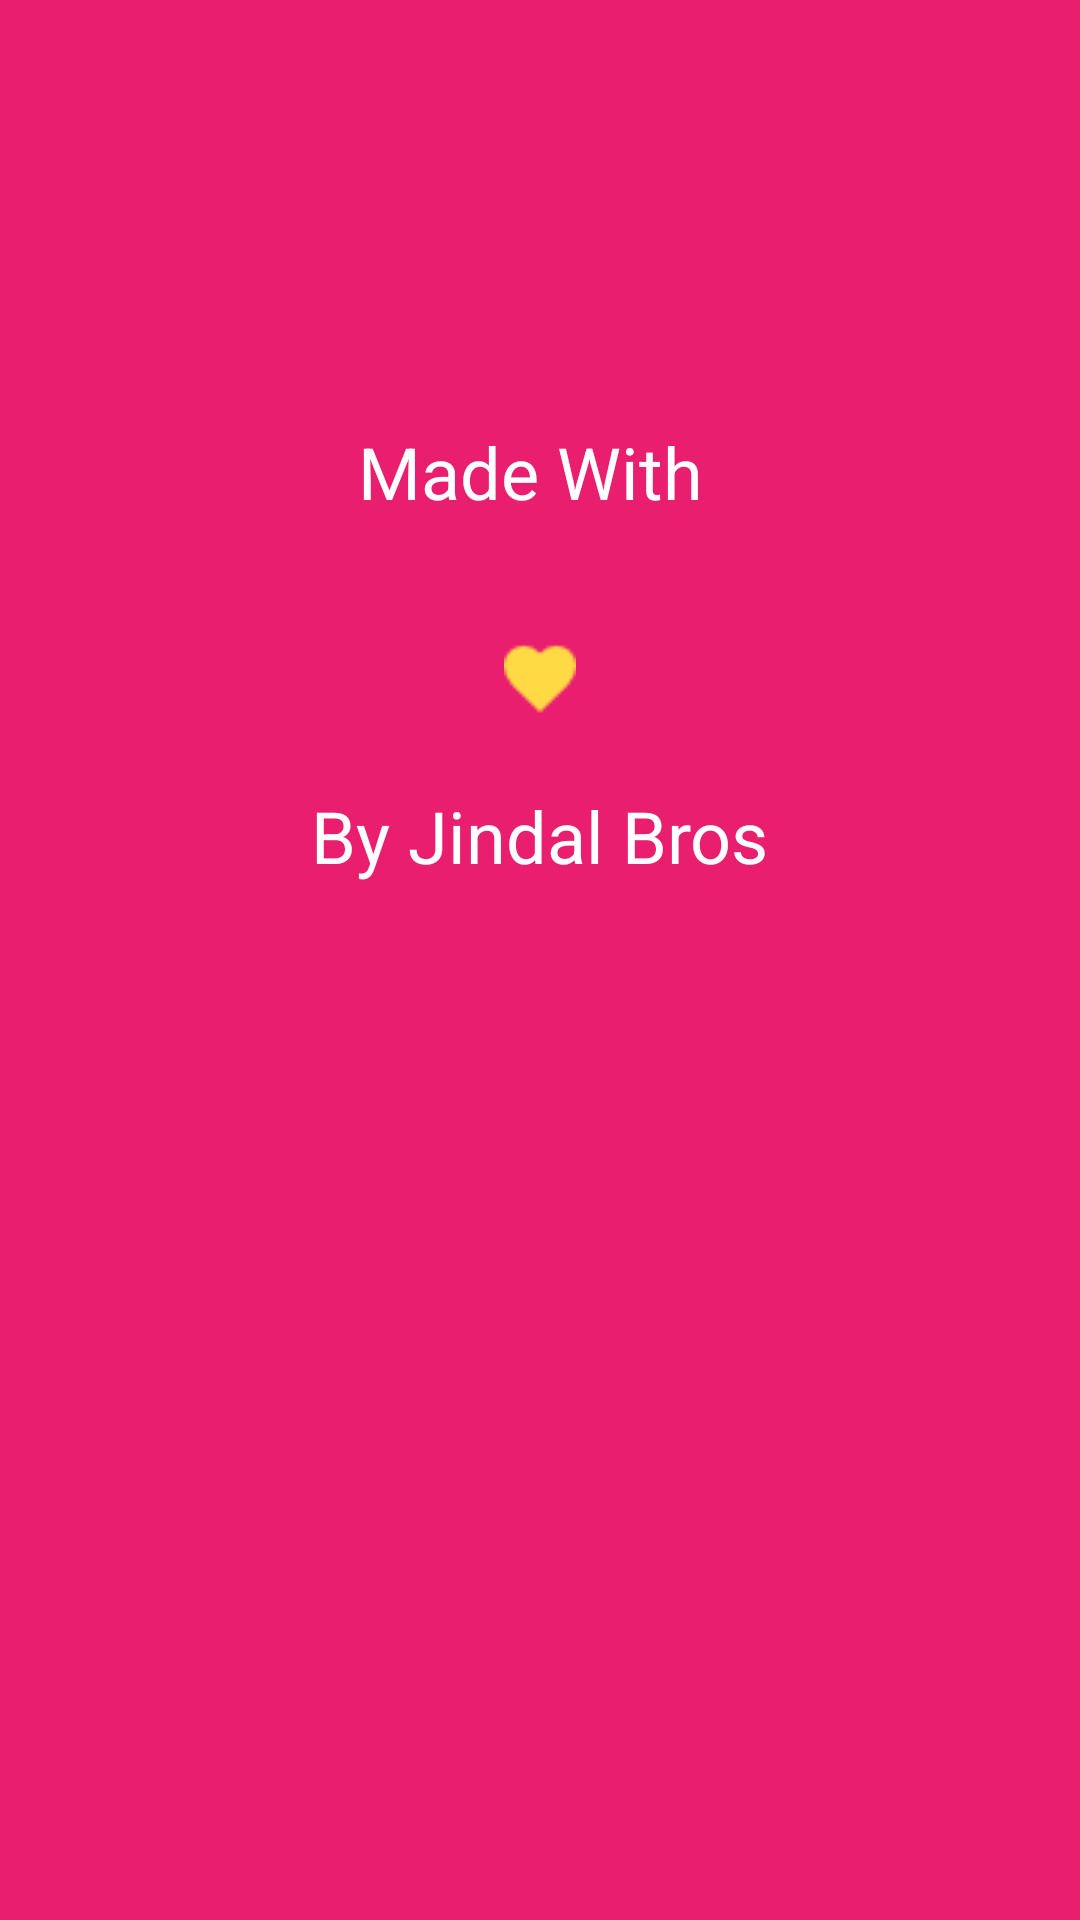

Point at icon controls on the screen. Image size 1080 × 1920, points as (x=x, y=y).
favorite heart: (x=540, y=679)
